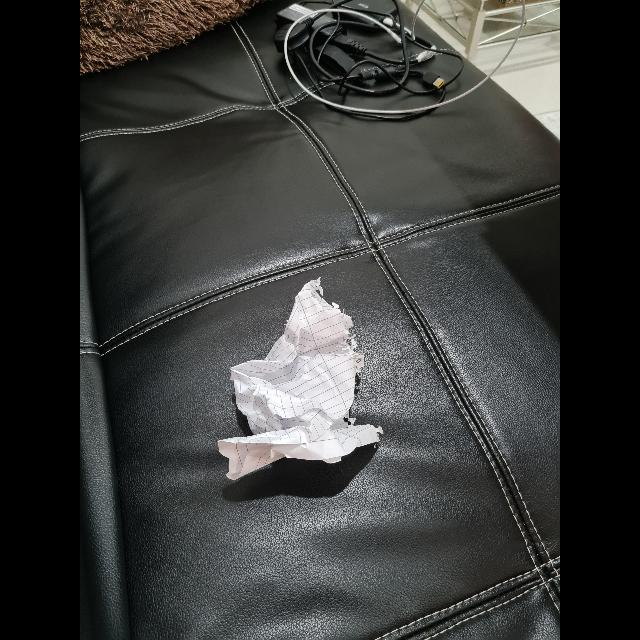scrap_paper: (214, 289, 370, 481)
